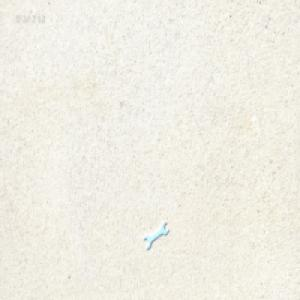Wrench: (143, 222, 168, 250)
